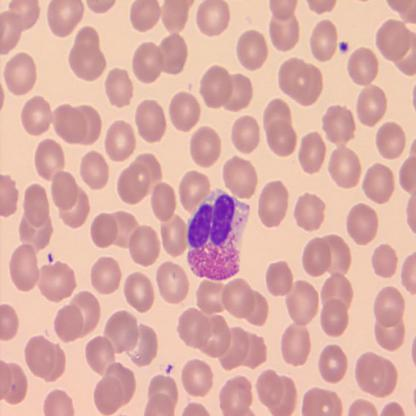Eosinophil: (186, 188, 250, 281)
